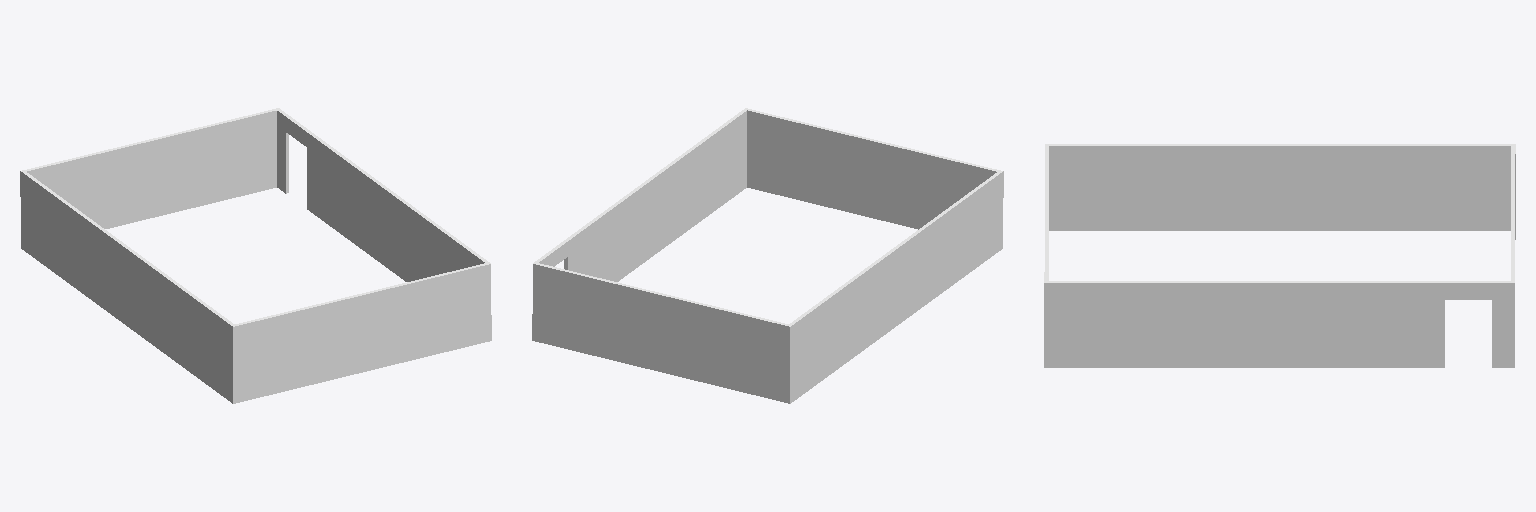
robot.urdf — walls:
<?xml version="1.0" encoding="utf-8"?>
<robot name="walls">
  <link name="base_link">
    <contact>
      <lateral_friction value="0.5"/>
      <rolling_friction value="0.0"/>
      <contact_cfm value="0.0"/>
      <contact_erp value="1.0"/>
    </contact>
    <inertial>
      <origin rpy="0 0 0" xyz="0 0 0"/>
      <mass value="0"/>
      <inertia ixx="0" ixy="0" ixz="0" iyy="0" iyz="0" izz="0"/>
    </inertial>
    <visual>
      <origin rpy="1.57 0 1.57" xyz="0 0 0"/>
      <geometry>
        <mesh filename="models/meshes[local-path]" scale="10 10 10"/>
      </geometry>
      <material name="tray_material">
        <color rgba="1 1 1 1"/>
      </material>
    </visual>
    <collision concave="yes">
      <origin rpy="1.57 0 1.57" xyz="0 0 0"/>
      <geometry>
        <mesh filename="models/meshes[local-path]" scale="10 10 10"/>
      </geometry>
    </collision>
  </link>
</robot>

--- Facts derived from the render (not from the file) ---
3 views of the same robot in one strip: view 1: azimuth 30°, elevation 25°; view 2: azimuth 150°, elevation 25°; view 3: azimuth 270°, elevation 25° (orthographic).
Robot: walls — 1 links, 0 joints (none); root link base_link; default pose: every joint at zero.
Visible links, largest first — view 1: base_link; view 2: base_link; view 3: base_link.
Boxes of the visible links, box(x1,y1,x2,y2) form: base_link: box(20, 108, 491, 403); base_link: box(532, 108, 1003, 403); base_link: box(1044, 144, 1515, 367).
Size in the robot's own frame: 7.01 by 10.01 by 2.01 metres.
1 mesh visuals loaded from 1 distinct referenced files (1 OBJ).
